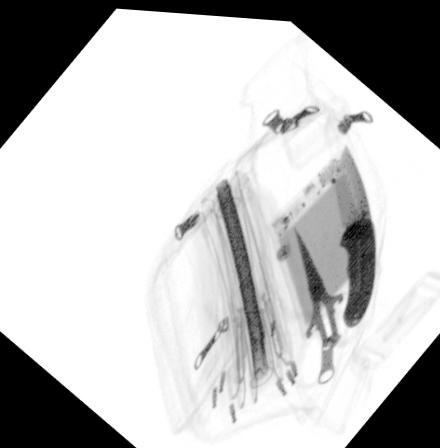Knife: (330, 132, 374, 324)
Powerbank: (264, 130, 379, 333)
Scissors: (294, 220, 377, 394)
